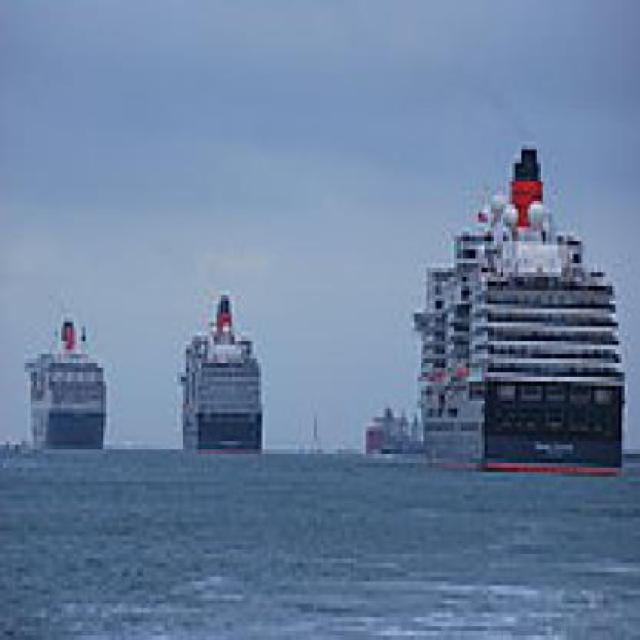cruise: (409, 133, 638, 491), (177, 278, 279, 459), (16, 314, 120, 465)
